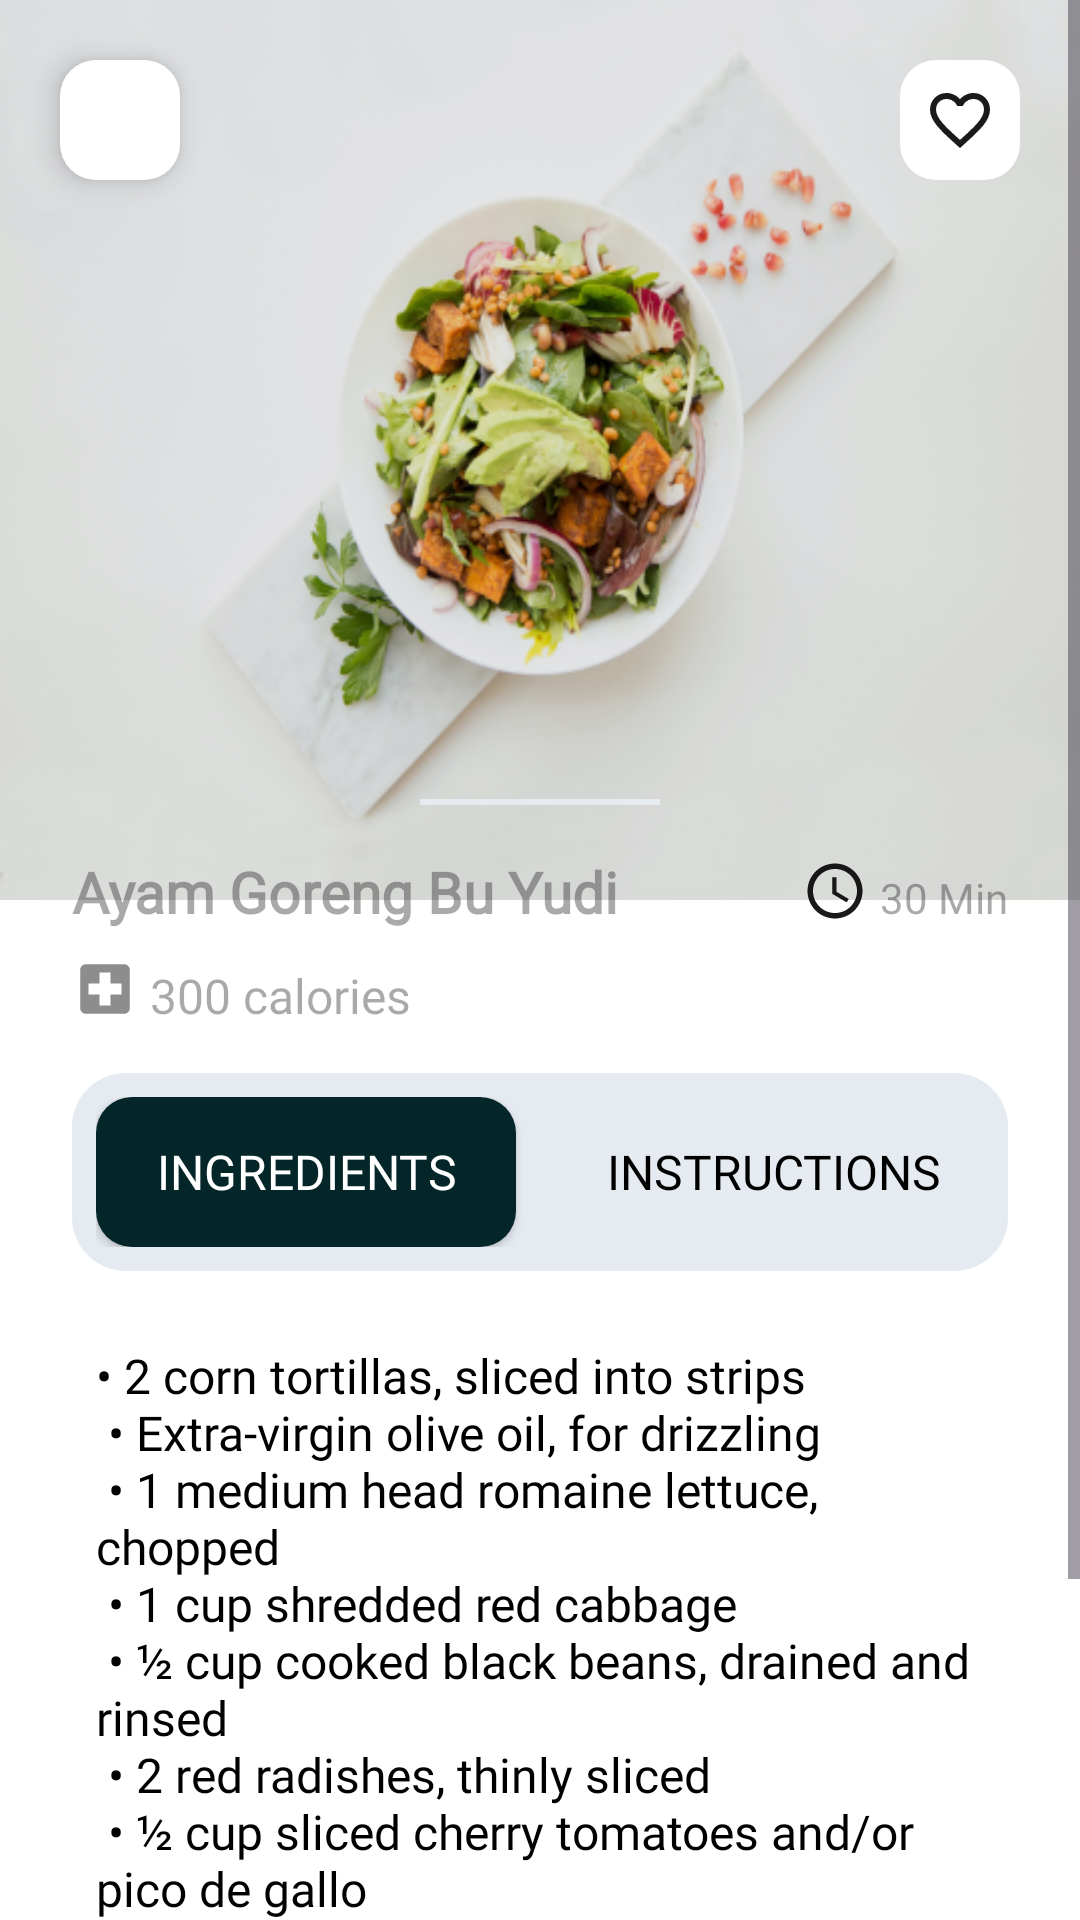

Named icons in this screenshot (1080 × 1920) and their centers, [x,y]:
clock: [835,891]
favorite: [960,120]
health: [105,989]
